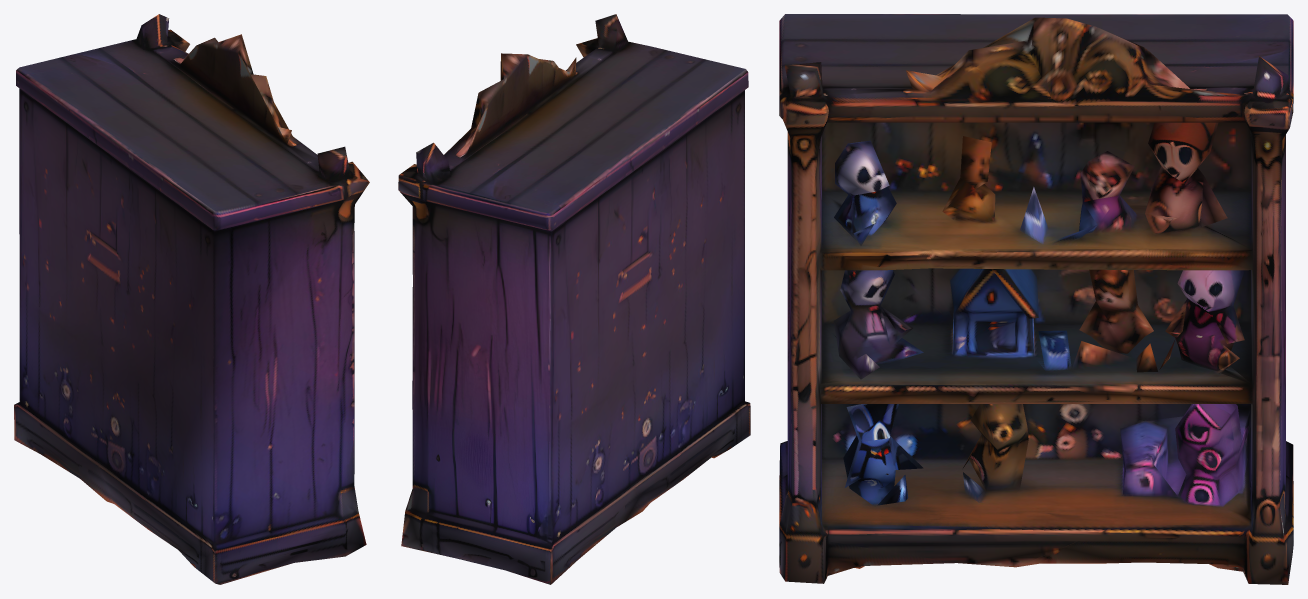
The model's file is toy+display+shelf+3d+model.obj.
3 renders of one model, left to right at view 1: azimuth 30°, elevation 25°; view 2: azimuth 150°, elevation 25°; view 3: azimuth 270°, elevation 25°, orthographic. The views are drawn at different scales.
Visible parts, largest first — view 1: tripo_node_4ede6f44-cd1e-417b-88c5-1a9ccd3eeb28; view 2: tripo_node_4ede6f44-cd1e-417b-88c5-1a9ccd3eeb28; view 3: tripo_node_4ede6f44-cd1e-417b-88c5-1a9ccd3eeb28.
Boxes of the visible parts, x1,y1,x2,y2 form: tripo_node_4ede6f44-cd1e-417b-88c5-1a9ccd3eeb28: [14, 14, 369, 584]; tripo_node_4ede6f44-cd1e-417b-88c5-1a9ccd3eeb28: [398, 14, 750, 584]; tripo_node_4ede6f44-cd1e-417b-88c5-1a9ccd3eeb28: [779, 14, 1293, 584].
Bounding box in the file's own units: 0.3737 × 0.9967 × 0.8289.
Materials: 1 (1 with a texture image).
